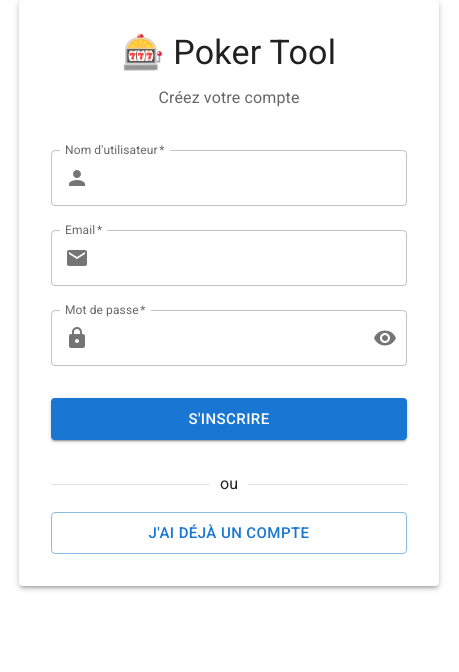
Test: Register page › shows validation error when fields are empty
The width and height of the screenshot is (459, 672).
Click the button with test id "register-submit": (229,419) [51,398,407,440]
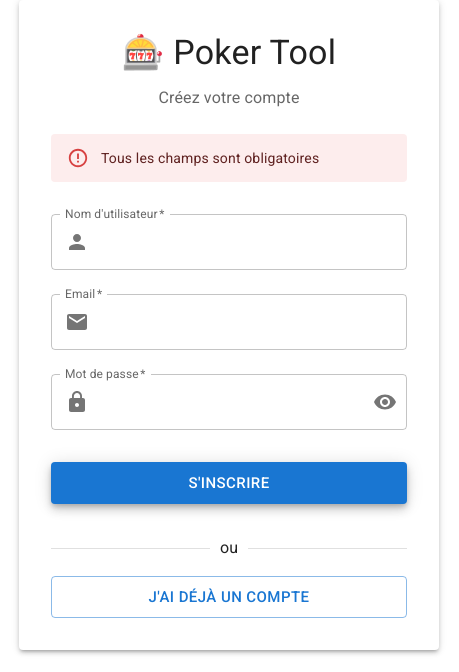
Check: the message shows "obligatoire", box [101,150,319,166]
